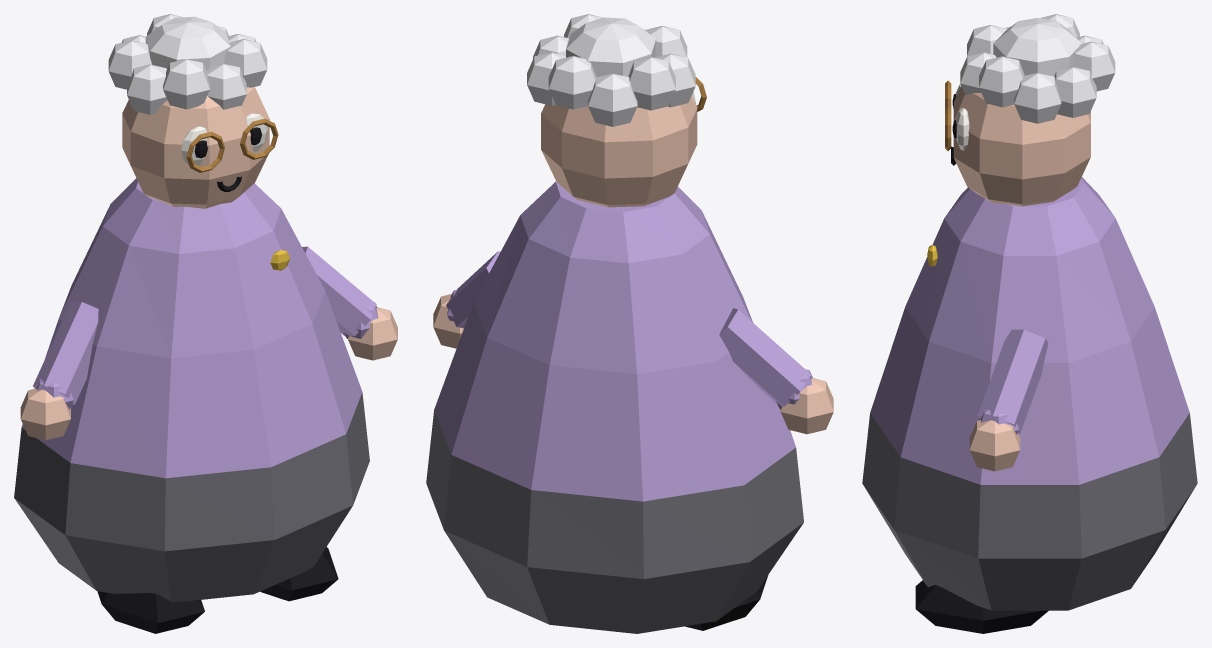
The model's file is npc_abuela_chola.glb.
The picture shows the model from 3 angles, left to right: view 1: azimuth 30°, elevation 25°; view 2: azimuth 150°, elevation 25°; view 3: azimuth 270°, elevation 25°; orthographic projection. The views are drawn at different scales.
Visible parts, largest first — view 1: body_grandma_cardigan, body_grandma_skirt, head_hair_white, head_skin_rosa_viejo, arms_grandma_cardigan, legs_black, arms_skin_rosa_viejo, face_grandma_frames (×2), face_white, face_black; view 2: body_grandma_cardigan, body_grandma_skirt, head_hair_white, head_skin_rosa_viejo, arms_grandma_cardigan, arms_skin_rosa_viejo, legs_black; view 3: body_grandma_cardigan, body_grandma_skirt, head_hair_white, head_skin_rosa_viejo, arms_grandma_cardigan, legs_black, arms_skin_rosa_viejo, face_white.
Boxes of the visible parts, x1,y1,x2,y2 form: body_grandma_cardigan: (22, 178, 362, 478); body_grandma_skirt: (14, 392, 369, 601); head_hair_white: (108, 14, 267, 114); head_skin_rosa_viejo: (122, 87, 269, 208); arms_grandma_cardigan: (33, 246, 378, 409); legs_black: (97, 547, 338, 633); arms_skin_rosa_viejo: (20, 307, 397, 440); face_grandma_frames (×2): (186, 118, 278, 172); face_white: (181, 113, 267, 165); face_black: (194, 127, 261, 191); body_grandma_cardigan: (434, 181, 795, 501); body_grandma_skirt: (426, 410, 803, 633); head_hair_white: (527, 14, 695, 126); head_skin_rosa_viejo: (541, 96, 697, 207); arms_grandma_cardigan: (446, 251, 812, 408); arms_skin_rosa_viejo: (433, 294, 833, 434); legs_black: (685, 575, 768, 630); body_grandma_cardigan: (870, 177, 1189, 484); body_grandma_skirt: (862, 413, 1197, 610); head_hair_white: (960, 14, 1115, 123); head_skin_rosa_viejo: (953, 86, 1090, 206); arms_grandma_cardigan: (977, 329, 1048, 434); legs_black: (915, 580, 1048, 633); arms_skin_rosa_viejo: (969, 420, 1020, 471); face_white: (956, 83, 969, 150).
Bounding box in the file's own units: 1.13 × 1.61 × 0.86.
